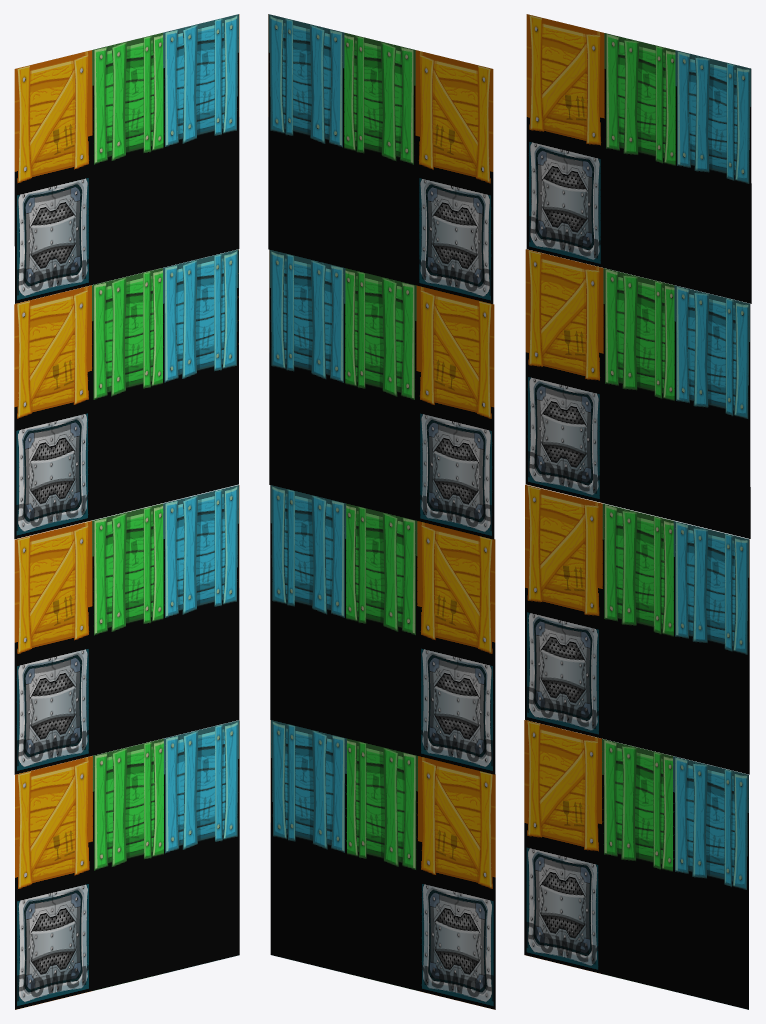
File: parent_cube.glb
The picture shows the model from 3 angles, left to right: view 1: azimuth 30°, elevation 25°; view 2: azimuth 150°, elevation 25°; view 3: azimuth 330°, elevation 25°; orthographic projection.
Parts seen in each view (by area): view 1: Cube (×4); view 2: Cube (×4); view 3: Cube (×4).
Part boxes in pixels (box(x1,y1,x2,y2)): Cube (×4): box(14, 14, 239, 1009); Cube (×4): box(268, 14, 495, 1009); Cube (×4): box(524, 14, 751, 1009).
Bounding box in the file's own units: 100 × 400 × 1.1.
Materials: 1 (1 with a texture image).
